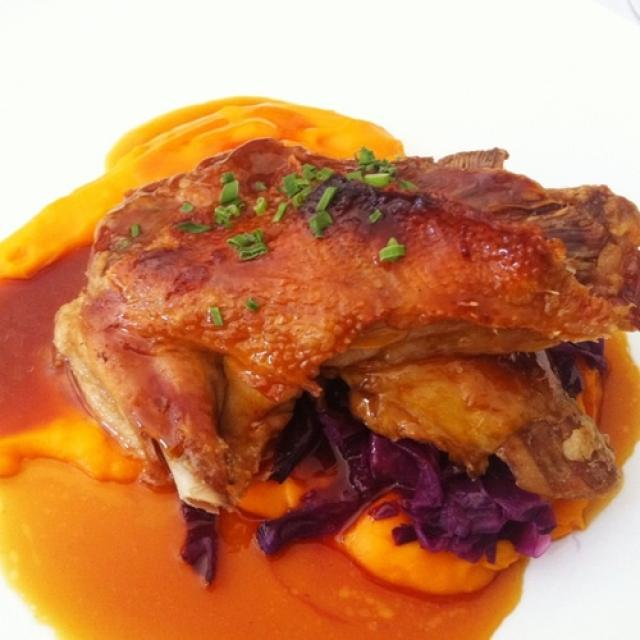烧串烤肉: (19, 72, 621, 618)
